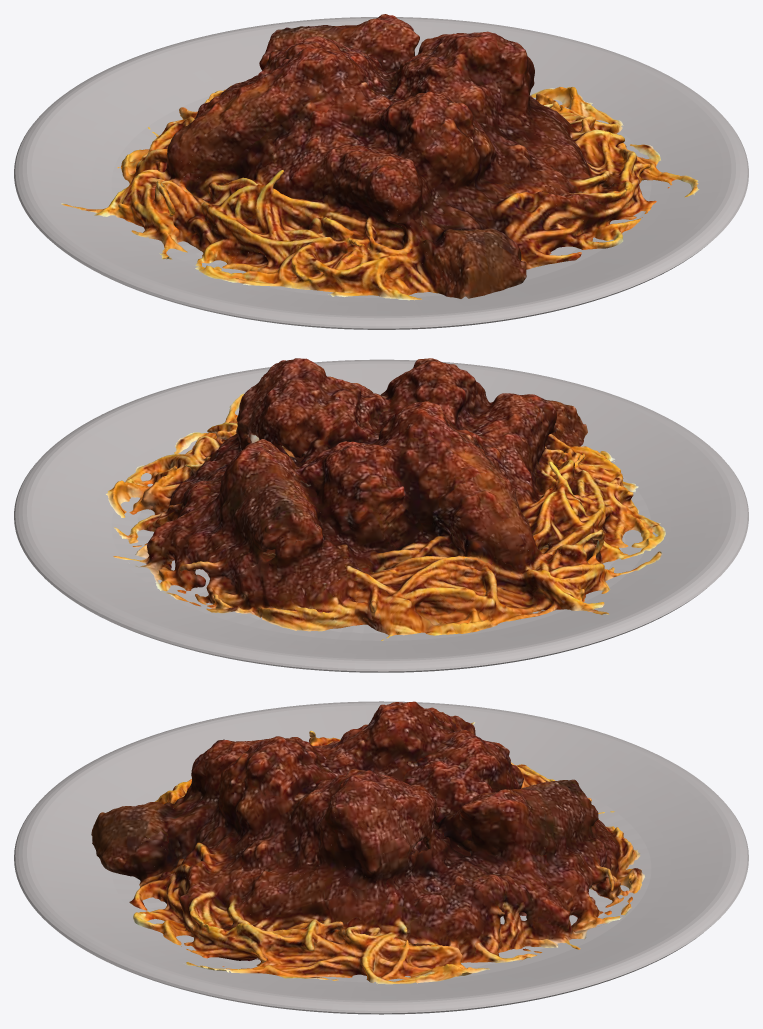
3 views of the same model, one above another, from view 1: azimuth 30°, elevation 25°; view 2: azimuth 150°, elevation 25°; view 3: azimuth 270°, elevation 25° (orthographic).
Parts seen in each view (by area): view 1: 3DModel_2, Circle_3; view 2: 3DModel_2, Circle_3; view 3: 3DModel_2, Circle_3.
Boxes of the visible parts, x1,y1,x2,y2 form: 3DModel_2: [61, 14, 699, 300]; Circle_3: [14, 17, 748, 329]; 3DModel_2: [106, 358, 665, 640]; Circle_3: [14, 359, 748, 672]; 3DModel_2: [91, 701, 644, 984]; Circle_3: [14, 701, 748, 1014].
Bounding box in the file's own units: 9.75 × 2.4 × 9.75.
Materials: 2 (1 with a texture image).
